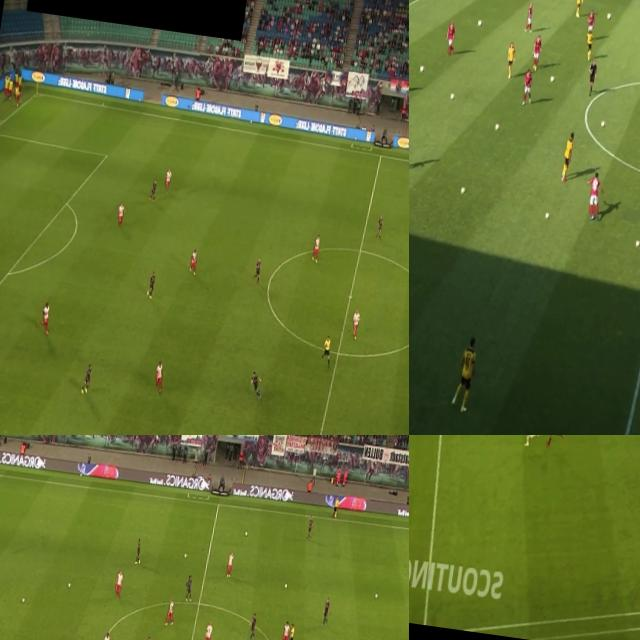ball: (458, 185, 466, 198), (549, 73, 556, 85), (634, 237, 640, 248), (598, 120, 605, 129), (418, 62, 423, 74), (21, 595, 26, 606), (476, 18, 482, 27), (67, 582, 73, 590), (283, 581, 288, 590), (450, 91, 456, 98), (606, 13, 612, 20), (495, 122, 500, 130), (374, 592, 379, 600), (545, 212, 549, 220), (244, 530, 248, 538), (182, 552, 186, 560)
player: (450, 336, 480, 409), (556, 128, 576, 188), (584, 173, 602, 220), (248, 362, 264, 407), (349, 303, 365, 346), (78, 362, 94, 398), (38, 302, 52, 342), (529, 36, 543, 74), (520, 68, 535, 102), (152, 358, 166, 393), (504, 38, 516, 78), (144, 268, 158, 302), (372, 212, 388, 241), (444, 19, 457, 54), (253, 253, 266, 285), (310, 236, 324, 265), (186, 247, 198, 277), (586, 9, 596, 42), (165, 598, 175, 631), (162, 165, 174, 192), (247, 613, 259, 640), (584, 30, 594, 61), (544, 435, 566, 449), (321, 596, 331, 626), (118, 197, 128, 226), (148, 177, 158, 206), (184, 574, 194, 603), (114, 570, 124, 599), (521, 435, 541, 449), (524, 4, 534, 31), (134, 540, 142, 570), (305, 513, 313, 543), (203, 620, 214, 640), (574, 0, 584, 19), (101, 632, 111, 640)
